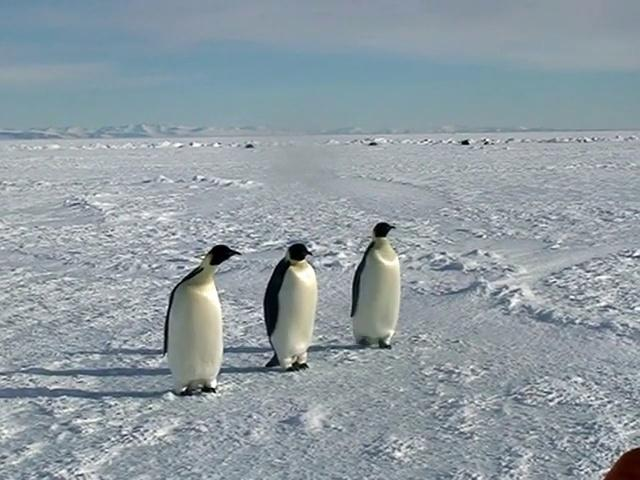animal: (352, 224, 402, 350)
